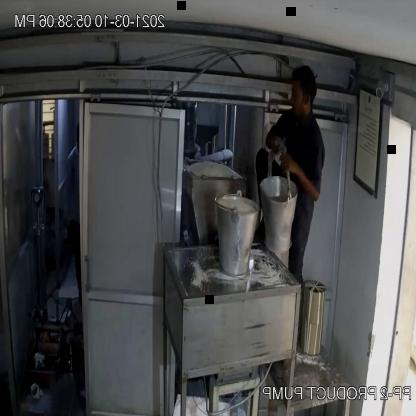no_glove: (278, 156, 325, 206)
